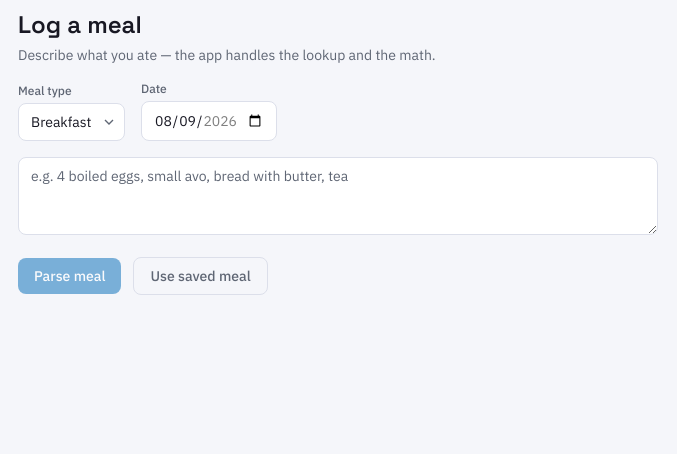
Test: UNSUPPORTED_PORTION_UNIT clarification › displays the raw unsupported unit
Type "2 oz chicken" into the text box at (338, 196), box [18,157,658,235]
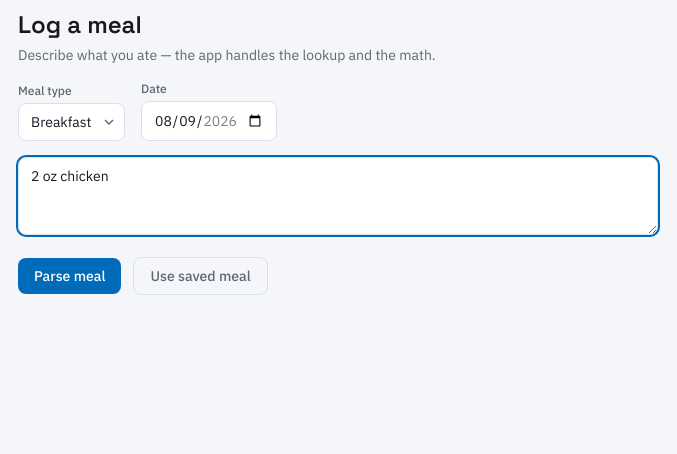
Click the button "Parse meal" at (70, 276), box [18,258,122,294]
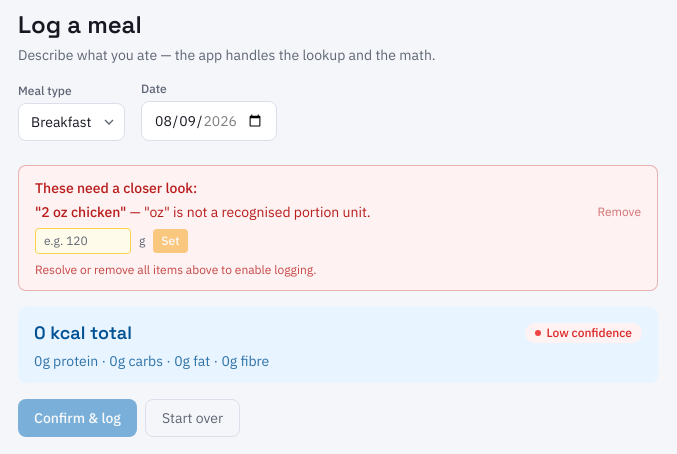
Now the text "\"oz\" is not a recognised portion unit." is shown, box [144,203,371,221]
